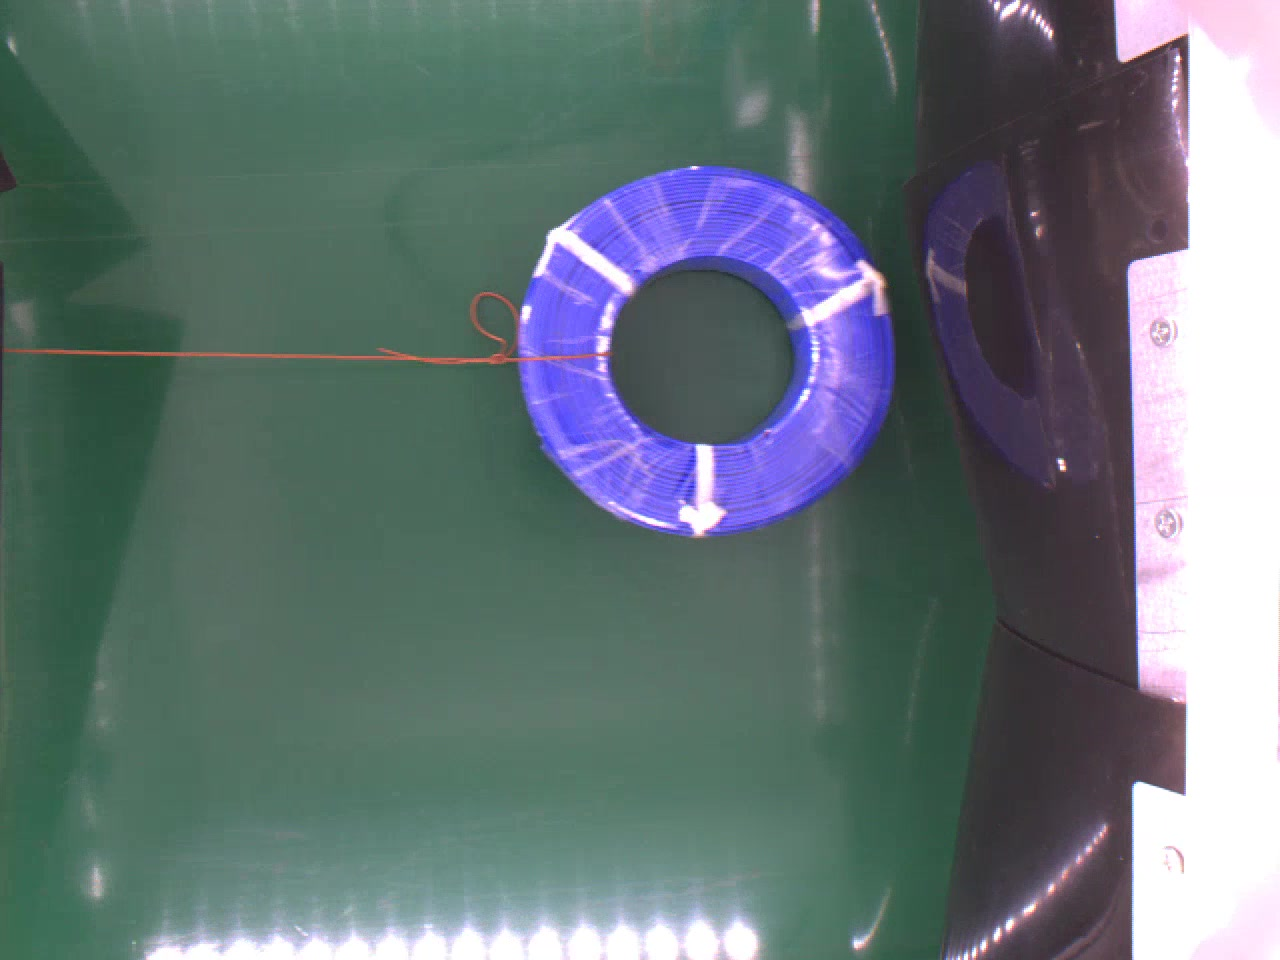blue: (518, 157, 899, 541)
